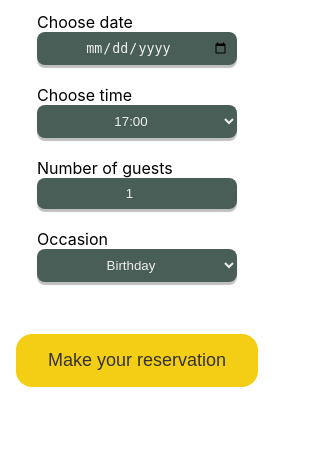
Test: Guests input › Shows validation error when guests exceed maximum
Replace the text in the number field labelled "Number of guests" with "11" at (137, 194), box [37, 178, 237, 209]
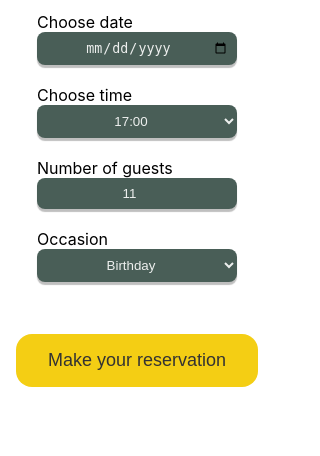
Click the button with aria-label "submit reservation".
click(137, 361)  # box [16, 334, 258, 387]
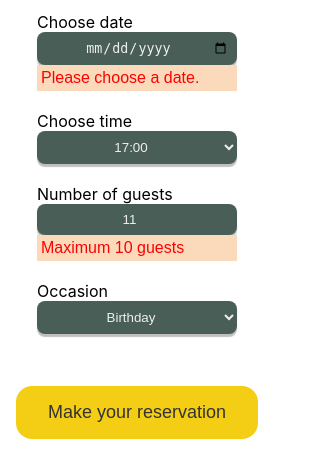
Now the text "Maximum 10 guests" is shown, box [37, 235, 237, 261]
